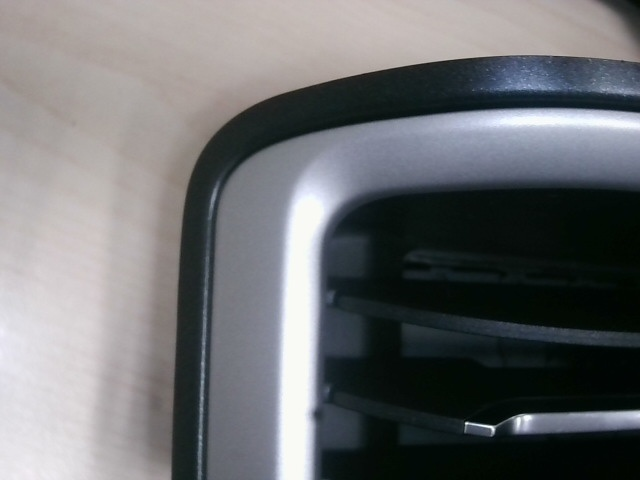NG: (609, 55, 639, 85)
